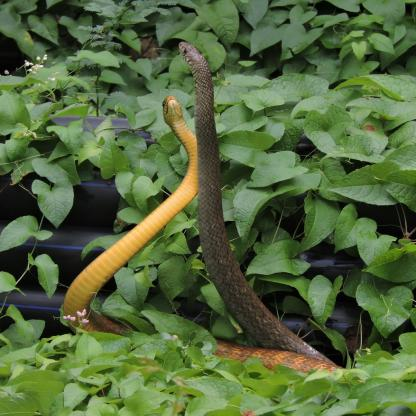Snake: (71, 40, 321, 363)
